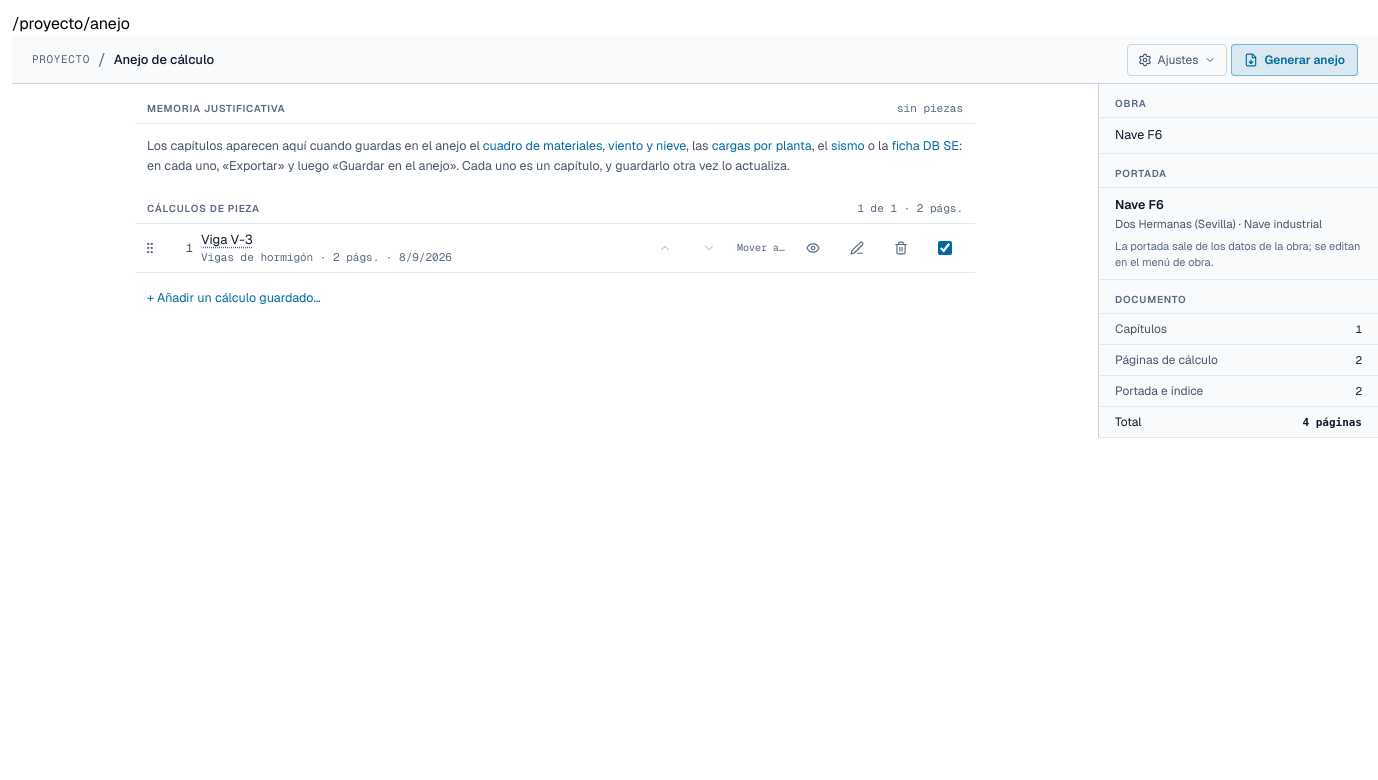
Test case: renombrar y ver desde la fila › renombrar cambia el capítulo en la lista, y lo dice
Click the button named "Renombrar el capítulo «Viga V-3»": (857, 248) x1=835 y1=226 x2=879 y2=270
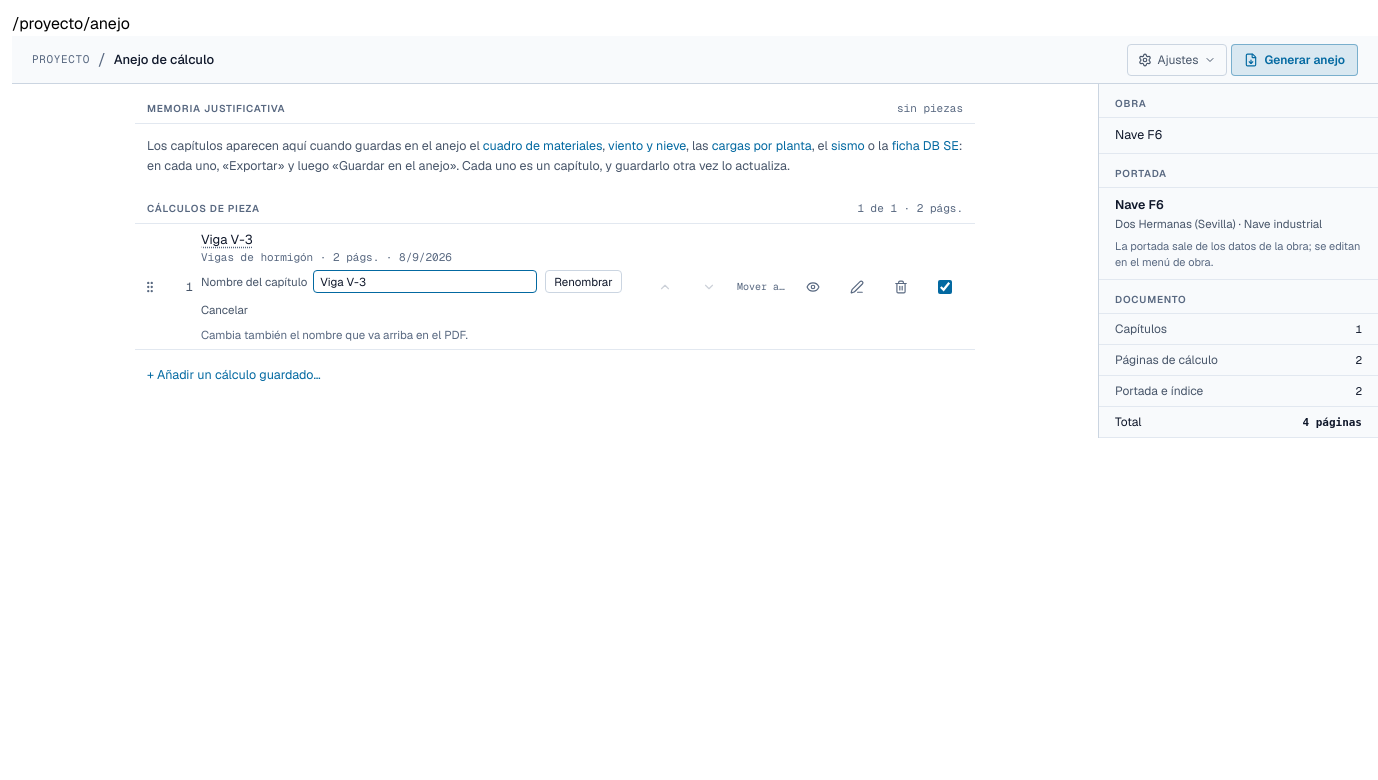
Replace the text in the field named "Nombre del capítulo «Viga V-3»" with "Viga V-3 del pórtico 2": (425, 281) x1=313 y1=270 x2=537 y2=293
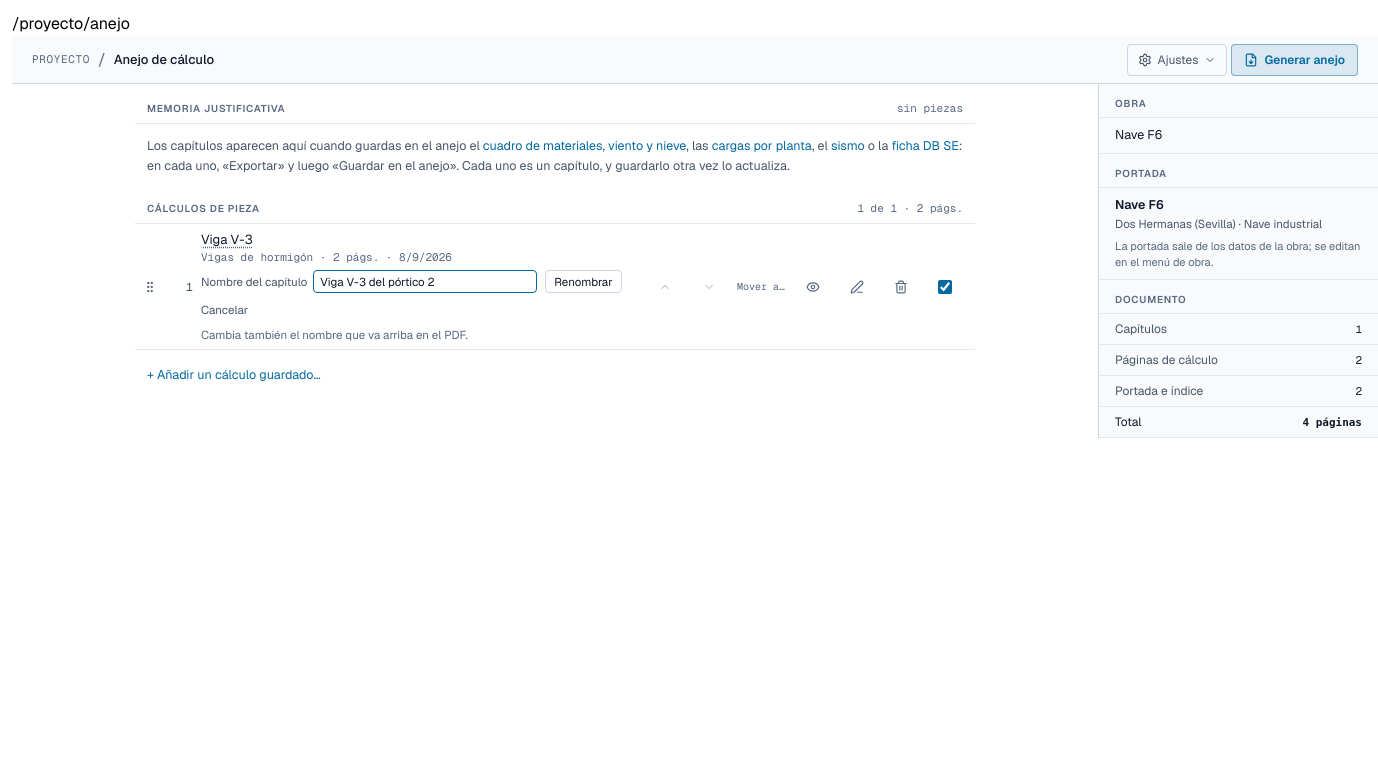
Click the button "Renombrar": (583, 281) x1=545 y1=270 x2=622 y2=293
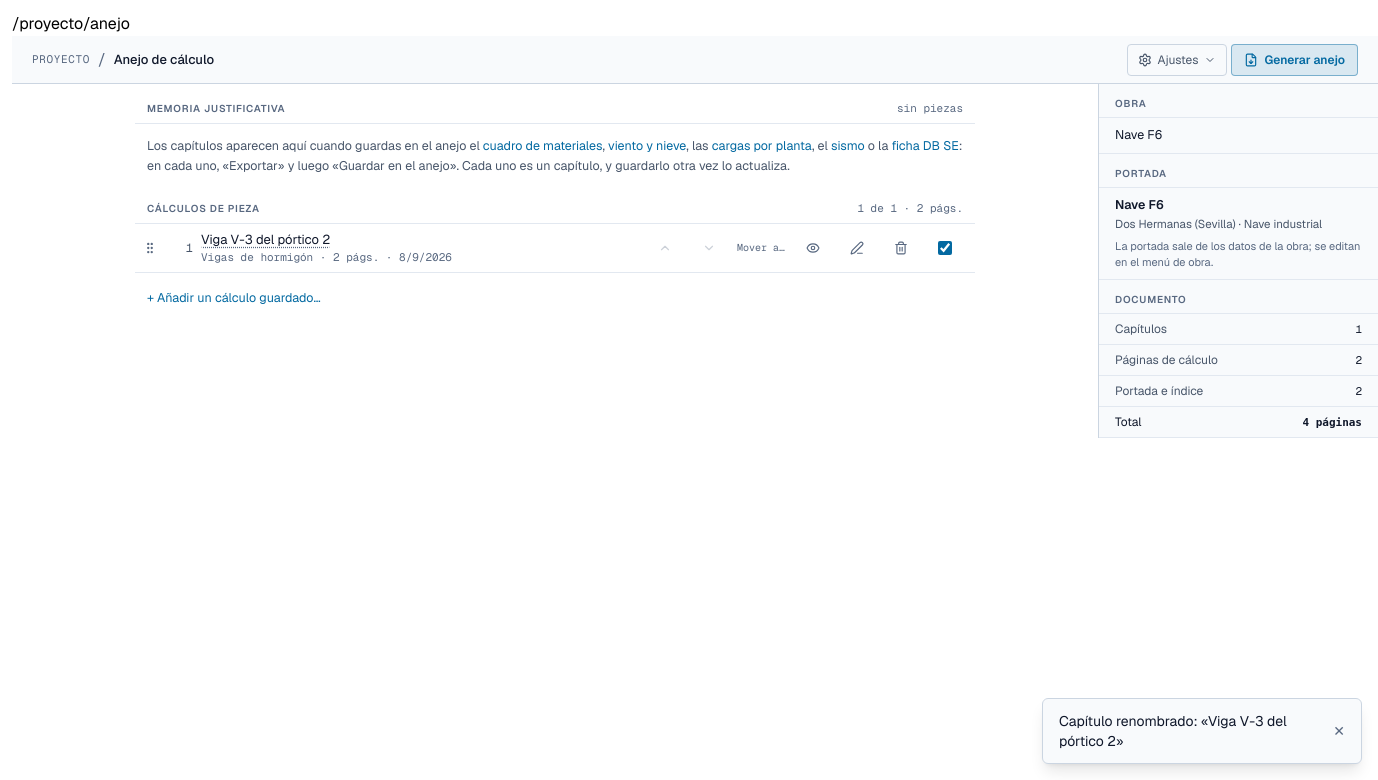
Check: the button "Viga V-3 del pórtico 2" is shown, box x1=201 y1=230 x2=330 y2=249
